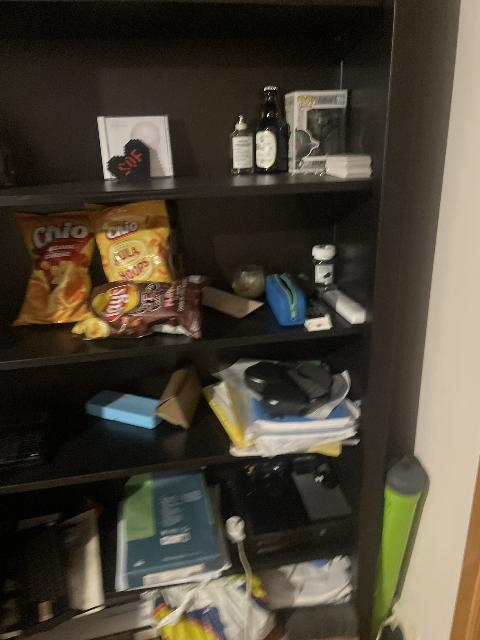Chio Cascaval 125g: (10, 209, 102, 328)
Chio Hula Hoops Cheese 70g: (89, 200, 176, 286)
Lays Beef Grilled Ribs 125g: (75, 274, 205, 340)
